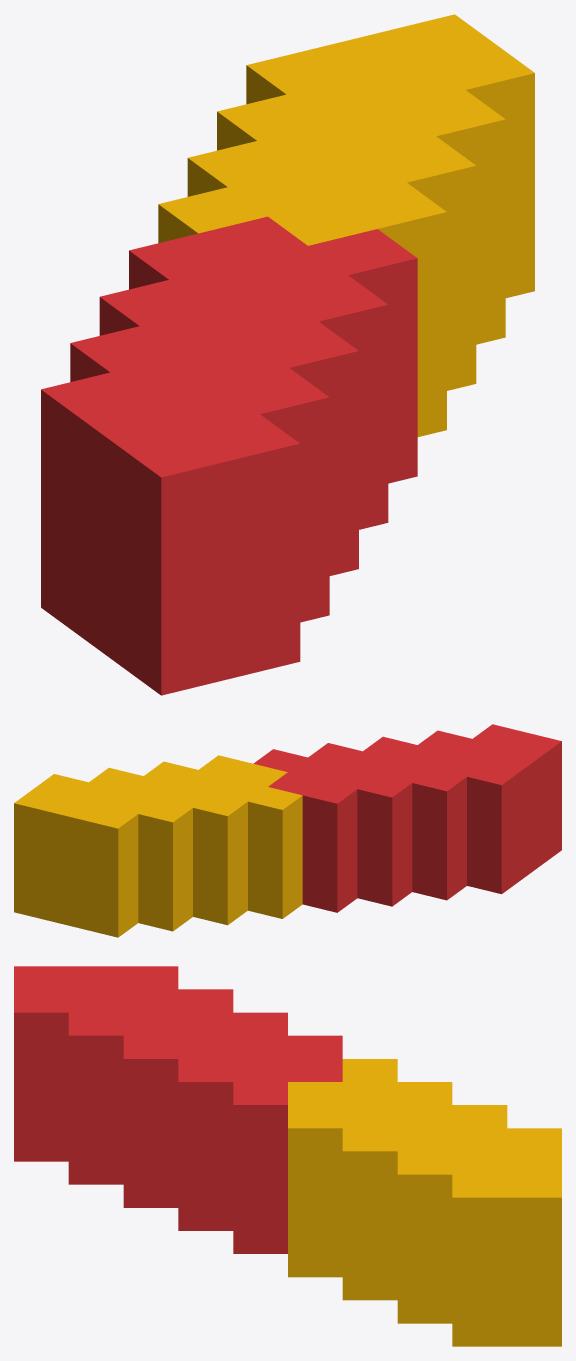
File: Eruption-18.obj
3 views of the same model, one above another, from view 1: azimuth 30°, elevation 25°; view 2: azimuth 150°, elevation 25°; view 3: azimuth 270°, elevation 25° (orthographic). The views are drawn at different scales.
Size of the model in its own units: 1 by 0.3 by 1.
Materials: 1 (1 with a texture image).
